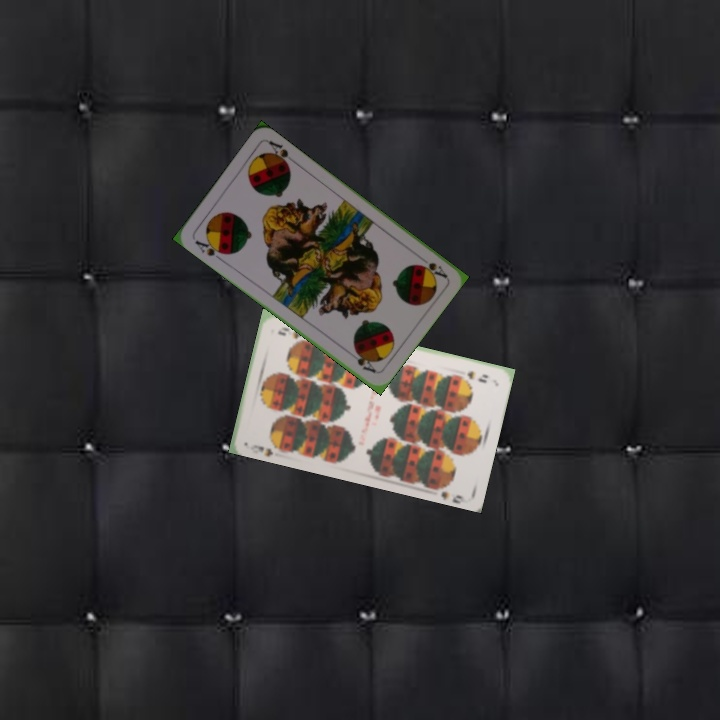S9: (246, 438, 285, 458), (463, 367, 491, 385)
SA: (190, 235, 229, 264), (414, 251, 449, 281)
